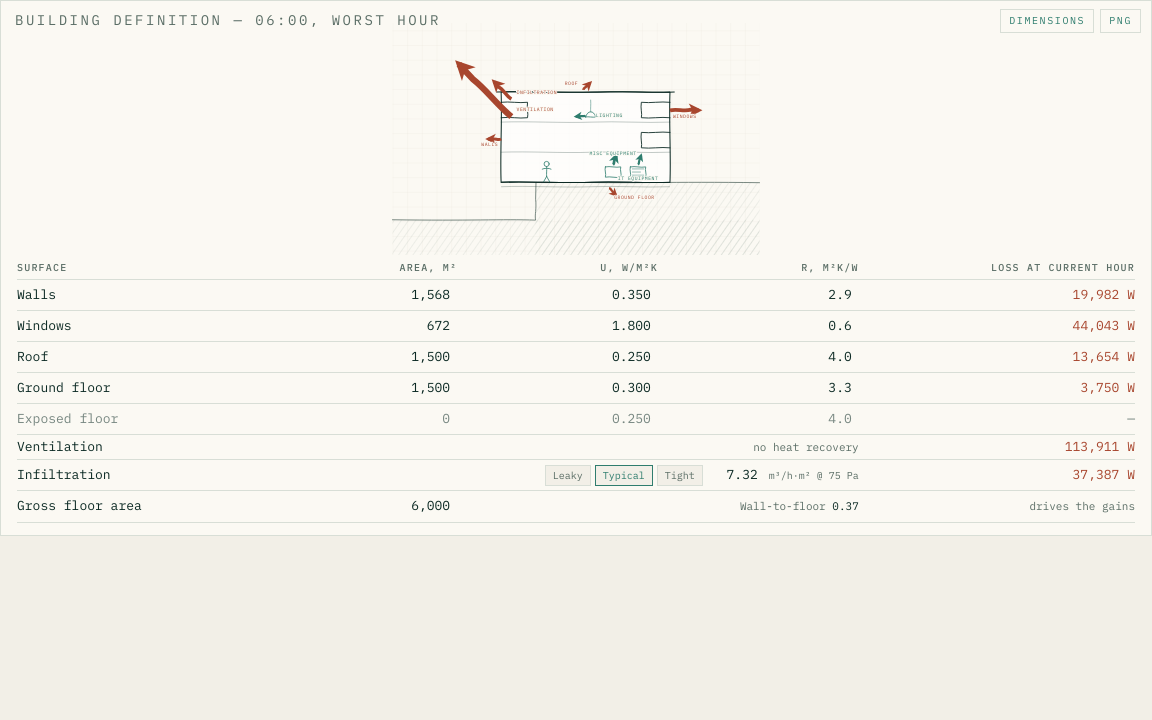
Scenario: Create surfaces › is named for what it does
This screenshot has width=1152, height=720.
# Behind the dimensions drawer now, which is shut on load.
Click the button "Dimensions" at (1047, 21), box x1=1000 y1=9 x2=1094 y2=32
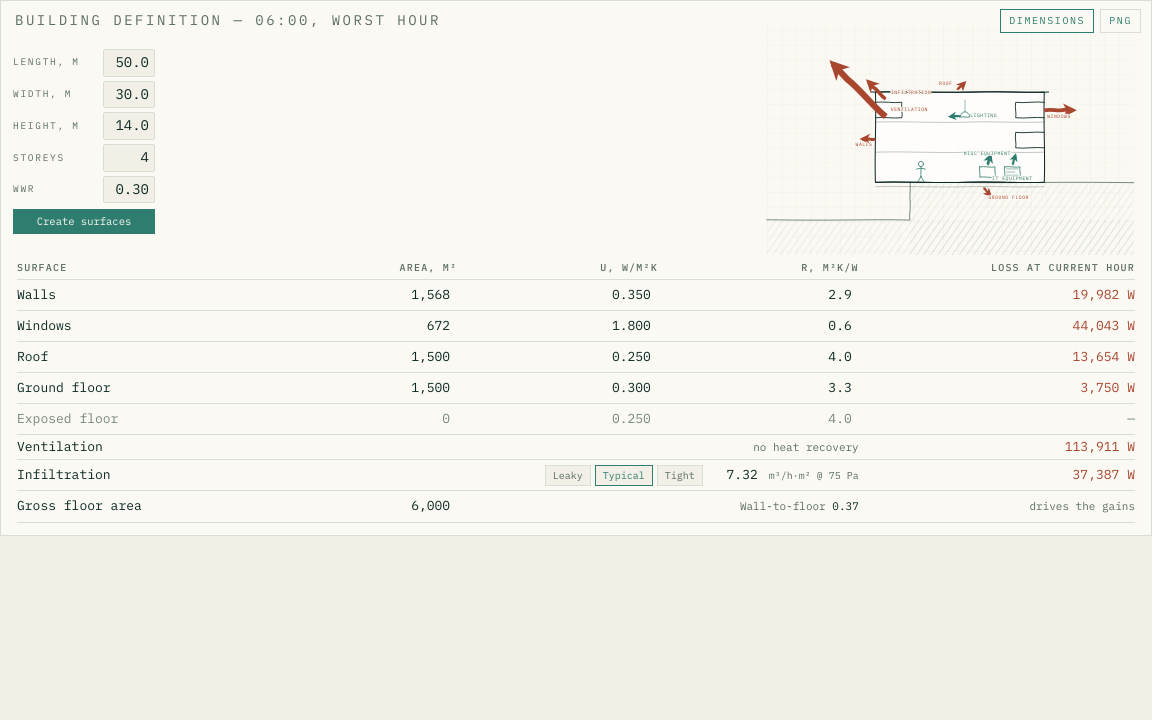
expect the button "Create surfaces" is shown: met, box x1=13 y1=209 x2=155 y2=234
